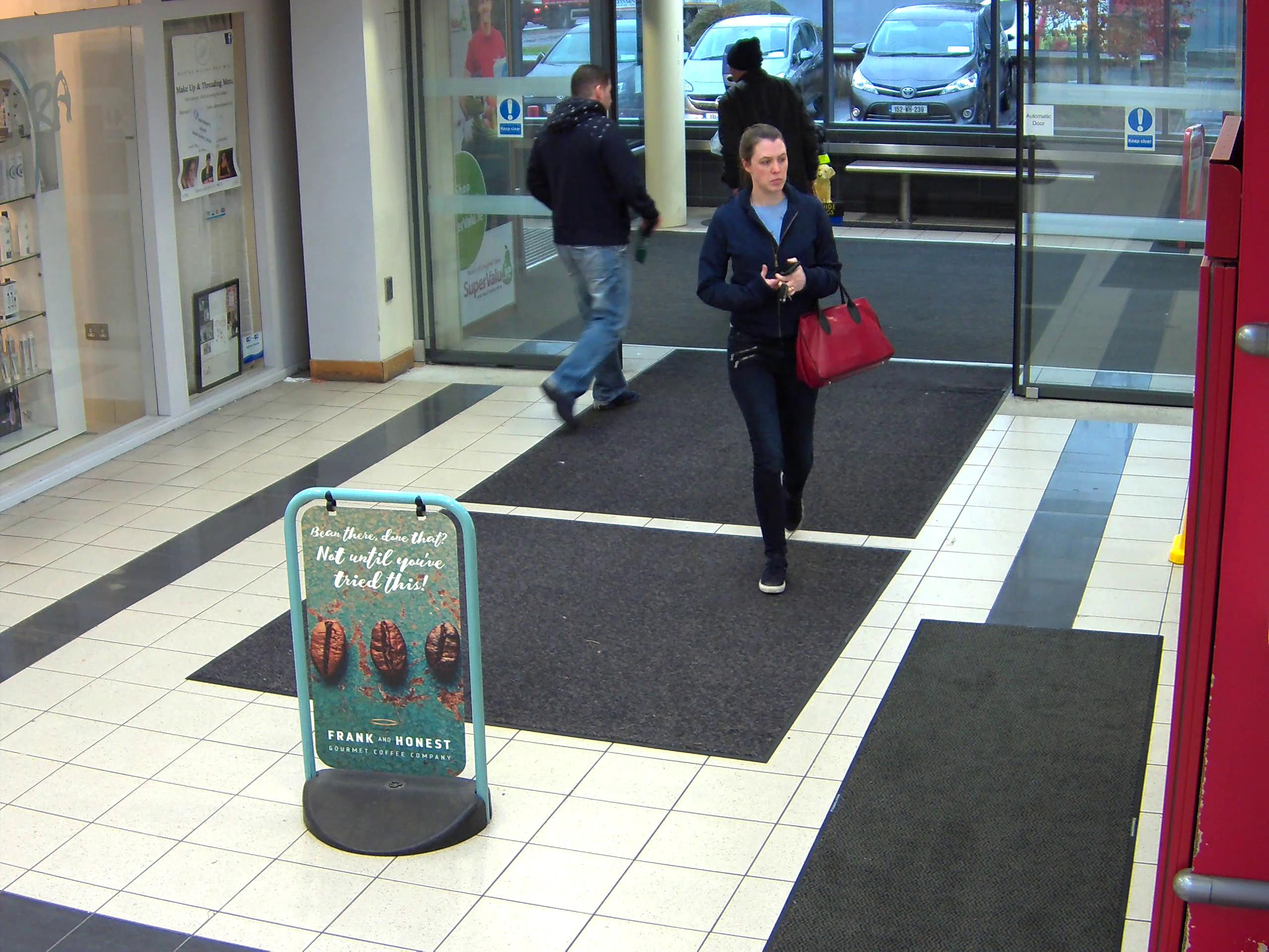backpack-or-handbag: (798, 295, 895, 389)
person: (697, 123, 842, 593)
person-with-backpack-handbag: (697, 122, 896, 593)
